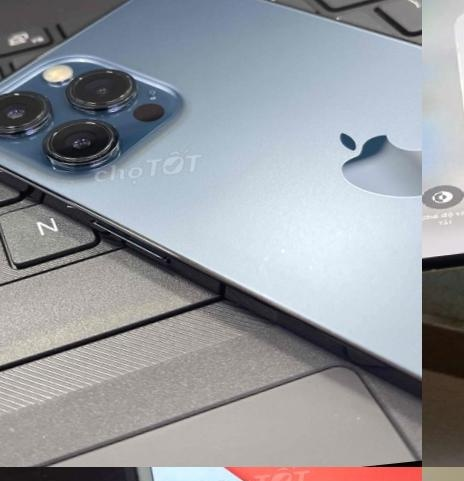scratch: (78, 467, 422, 481)
